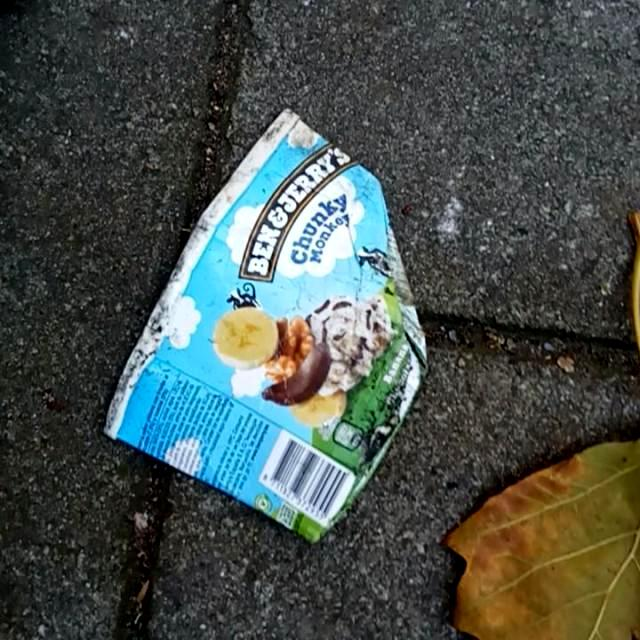Paper: (96, 105, 430, 548)
